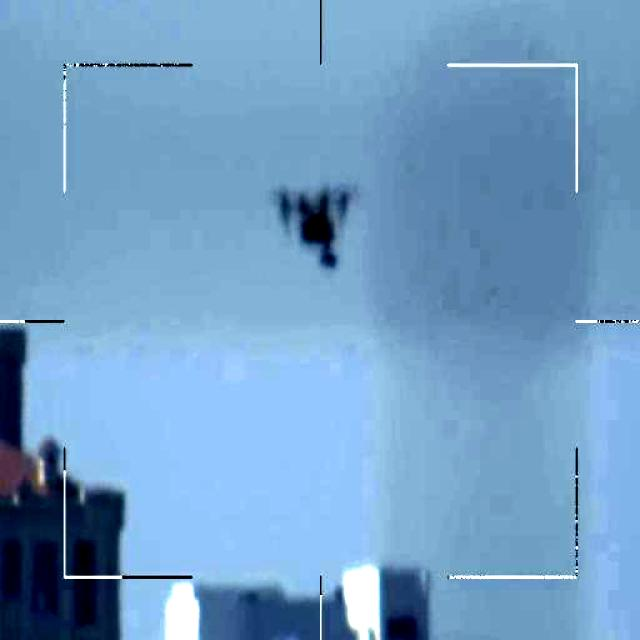bird: (269, 175, 362, 272)
